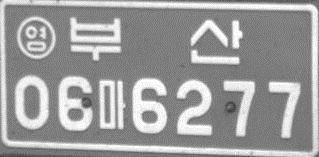0: (14, 74, 49, 130)
2: (176, 79, 213, 136)
6: (131, 76, 169, 136), (55, 75, 93, 133)
7: (220, 77, 256, 137), (266, 81, 301, 139)
마: (98, 80, 128, 131)
부산_D: (69, 17, 246, 68)
영: (15, 14, 56, 59)
